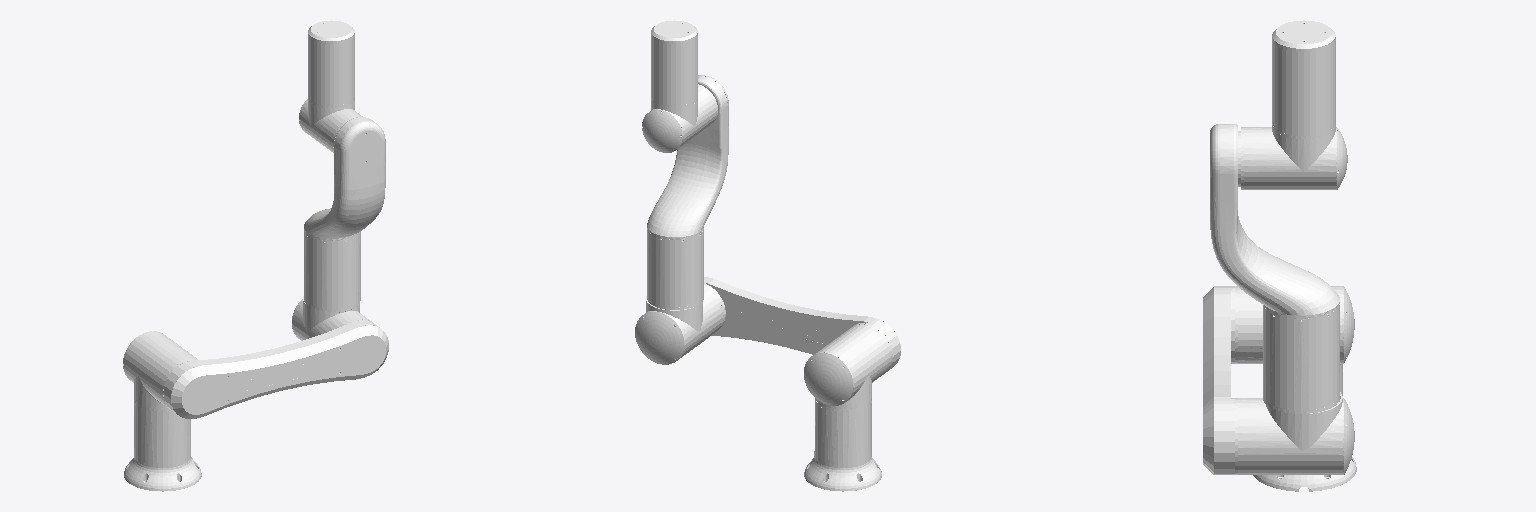
URDF robot description (zhrobot):
<robot
  name="zhrobot">
  <link
    name="base_link">
    <inertial>
      <origin
        xyz="0.00012128 0.00014938 0.099776"
        rpy="0 0 0" />
      <mass
        value="3.8413" />
      <inertia
        ixx="0.012067"
        ixy="4.9E-07"
        ixz="0.00010217"
        iyy="0.011933"
        iyz="2.373E-05"
        izz="0.0062804" />
    </inertial>
    <visual>
      <origin
        xyz="0 0 0"
        rpy="0 0 0" />
      <geometry>
        <mesh
          filename="package://zhrobot/meshes/base_link.STL" />
      </geometry>
      <material
        name="gray">
        <color
          rgba="1 1 1 1" />
      </material>
    </visual>
    <collision>
      <origin
        xyz="0 0 0"
        rpy="0 0 0" />
      <geometry>
        <mesh
          filename="package://zhrobot/meshes/base_link.STL" />
      </geometry>
    </collision>
  </link>
  <link
    name="link2">
    <inertial>
      <origin
        xyz="-0.00016173 -0.002251 0.042306"
        rpy="0 0 0" />
      <mass
        value="3.555" />
      <inertia
        ixx="0.007827"
        ixy="-7.3E-07"
        ixz="2.938E-05"
        iyy="0.0079527"
        iyz="0.00035769"
        izz="0.0051663" />
    </inertial>
    <visual>
      <origin
        xyz="0 0 0"
        rpy="0 0 0" />
      <geometry>
        <mesh
          filename="package://zhrobot/meshes/link2.STL" />
      </geometry>
      <material
        name="gray">
        <color
          rgba="1 1 1 1" />
      </material>
    </visual>
    <collision>
      <origin
        xyz="0 0 0"
        rpy="0 0 0" />
      <geometry>
        <mesh
          filename="package://zhrobot/meshes/link2.STL" />
      </geometry>
    </collision>
  </link>
  <joint
    name="joint1"
    type="revolute">
    <origin
      xyz="0 0 0.2261"
      rpy="1.5708 0 0" />
    <parent
      link="base_link" />
    <child
      link="link2" />
    <axis
      xyz="0 -1 0" />
    <limit
      lower="-3.1416"
      upper="3.1416"
      effort="100"
      velocity="0.5" />
    <dynamics
      damping="0.5"
      friction="0.5" />
  </joint>
  <link
    name="bigarm">
    <inertial>
      <origin
        xyz="0.1875 1.73E-05 0.12277"
        rpy="0 0 0" />
      <mass
        value="0.87042" />
      <inertia
        ixx="0.0010539"
        ixy="1E-07"
        ixz="0"
        iyy="0.016125"
        iyz="2E-07"
        izz="0.016763" />
    </inertial>
    <visual>
      <origin
        xyz="0 0 0"
        rpy="0 0 0" />
      <geometry>
        <mesh
          filename="package://zhrobot/meshes/bigarm.STL" />
      </geometry>
      <material
        name="gray">
        <color
          rgba="1 1 1 1" />
      </material>
    </visual>
    <collision>
      <origin
        xyz="0 0 0"
        rpy="0 0 0" />
      <geometry>
        <mesh
          filename="package://zhrobot/meshes/bigarm.STL" />
      </geometry>
    </collision>
  </link>
  <joint
    name="joint2"
    type="revolute">
    <origin
      xyz="0 0 0"
      rpy="0 0 0" />
    <parent
      link="link2" />
    <child
      link="bigarm" />
    <axis
      xyz="0 0 -1" />
    <limit
      lower="-3.1416"
      upper="3.1416"
      effort="100"
      velocity="0.5" />
    <dynamics
      damping="0.5"
      friction="0.5" />
  </joint>
  <link
    name="link3">
    <inertial>
      <origin
        xyz="0.0001617 0.042309 -0.0022472"
        rpy="0 0 0" />
      <mass
        value="3.5547" />
      <inertia
        ixx="0.0078253"
        ixy="-2.94E-05"
        ixz="7E-07"
        iyy="0.0051655"
        iyz="0.0003572"
        izz="0.0079515" />
    </inertial>
    <visual>
      <origin
        xyz="0 0 0"
        rpy="0 0 0" />
      <geometry>
        <mesh
          filename="package://zhrobot/meshes/link3.STL" />
      </geometry>
      <material
        name="gray">
        <color
          rgba="1 1 1 1" />
      </material>
    </visual>
    <collision>
      <origin
        xyz="0 0 0"
        rpy="0 0 0" />
      <geometry>
        <mesh
          filename="package://zhrobot/meshes/link3.STL" />
      </geometry>
    </collision>
  </link>
  <joint
    name="joint3"
    type="revolute">
    <origin
      xyz="0.375 0 0"
      rpy="1.5708 0 0" />
    <parent
      link="bigarm" />
    <child
      link="link3" />
    <axis
      xyz="0 -1 0" />
    <limit
      lower="-3.1416"
      upper="3.1416"
      effort="100"
      velocity="0.5" />
    <dynamics
      damping="0.5"
      friction="0.5" />
  </joint>
  <link
    name="link4">
    <inertial>
      <origin
        xyz="-0.00027637 0.28564 -0.012939"
        rpy="0 0 0" />
      <mass
        value="4.0261" />
      <inertia
        ixx="0.042331"
        ixy="4.379E-05"
        ixz="-1.44E-05"
        iyy="0.01003"
        iyz="0.011181"
        izz="0.038178" />
    </inertial>
    <visual>
      <origin
        xyz="0 0 0"
        rpy="0 0 0" />
      <geometry>
        <mesh
          filename="package://zhrobot/meshes/link4.STL" />
      </geometry>
      <material
        name="gray">
        <color
          rgba="1 1 1 1" />
      </material>
    </visual>
    <collision>
      <origin
        xyz="0 0 0"
        rpy="0 0 0" />
      <geometry>
        <mesh
          filename="package://zhrobot/meshes/link4.STL" />
      </geometry>
    </collision>
  </link>
  <joint
    name="joint4"
    type="revolute">
    <origin
      xyz="0 0 -0.435"
      rpy="1.5708 0 0" />
    <parent
      link="link3" />
    <child
      link="link4" />
    <axis
      xyz="0 1 0" />
    <limit
      lower="-3.1416"
      upper="3.1416"
      effort="100"
      velocity="0.5" />
    <dynamics
      damping="0.5"
      friction="0.5" />
  </joint>
  <link
    name="link5">
    <inertial>
      <origin
        xyz="0.00034682 -0.042079 0.0021679"
        rpy="0 0 0" />
      <mass
        value="2.205" />
      <inertia
        ixx="0.0038576"
        ixy="3.25E-05"
        ixz="6.5E-07"
        iyy="0.0021613"
        iyz="0.0002071"
        izz="0.0038912" />
    </inertial>
    <visual>
      <origin
        xyz="0 0 0"
        rpy="0 0 0" />
      <geometry>
        <mesh
          filename="package://zhrobot/meshes/link5.STL" />
      </geometry>
      <material
        name="gray">
        <color
          rgba="1 1 1 1" />
      </material>
    </visual>
    <collision>
      <origin
        xyz="0 0 0"
        rpy="0 0 0" />
      <geometry>
        <mesh
          filename="package://zhrobot/meshes/link5.STL" />
      </geometry>
    </collision>
  </link>
  <joint
    name="joint5"
    type="revolute">
    <origin
      xyz="0 0 0"
      rpy="1.5708 0 0" />
    <parent
      link="link4" />
    <child
      link="link5" />
    <axis
      xyz="0 1 0" />
    <limit
      lower="-3.1416"
      upper="3.1416"
      effort="100"
      velocity="0.5" />
    <dynamics
      damping="0.5"
      friction="0.5" />
  </joint>
  <link
    name="link6">
    <inertial>
      <origin
        xyz="0.00030399 0.00036053 -0.10004"
        rpy="0 0 0" />
      <mass
        value="2.1217" />
      <inertia
        ixx="0.0037689"
        ixy="2.09E-06"
        ixz="3.728E-05"
        iyy="0.0037195"
        iyz="3.323E-05"
        izz="0.0019077" />
    </inertial>
    <visual>
      <origin
        xyz="0 0 0"
        rpy="0 0 0" />
      <geometry>
        <mesh
          filename="package://zhrobot/meshes/link6.STL" />
      </geometry>
      <material
        name="gray">
        <color
          rgba="1 1 1 1" />
      </material>
    </visual>
    <collision>
      <origin
        xyz="0 0 0"
        rpy="0 0 0" />
      <geometry>
        <mesh
          filename="package://zhrobot/meshes/link6.STL" />
      </geometry>
    </collision>
  </link>
  <joint
    name="joint6"
    type="revolute">
    <origin
      xyz="0 0 0.1878"
      rpy="0 0 0" />
    <parent
      link="link5" />
    <child
      link="link6" />
    <axis
      xyz="0 0 -1" />
    <limit
      lower="-3.1416"
      upper="3.1416"
      effort="100"
      velocity="0.5" />
    <dynamics
      damping="0.5"
      friction="0.5" />
  </joint>
</robot>

--- What the picture shows (computed from the rendered views, not written in the file) ---
Views: 3 orthographic renders of the robot side by side, from view 1: azimuth 30°, elevation 25°; view 2: azimuth 150°, elevation 25°; view 3: azimuth 270°, elevation 25°.
Model zhrobot with 7 links and 6 joints (6 revolute), rooted at base_link, posed all joints at 0.
Links seen in each view (by area): view 1: bigarm, link4, base_link, link6, link2, link5, link3; view 2: link4, bigarm, link2, base_link, link3, link6, link5; view 3: link4, link3, link6, link5, bigarm, link2, base_link.
Boxes of the visible links, <box> form: bigarm: <box>163,320,388,418</box>; link4: <box>304,117,385,312</box>; base_link: <box>124,400,201,491</box>; link6: <box>308,20,354,107</box>; link2: <box>123,331,197,408</box>; link5: <box>299,99,362,152</box>; link3: <box>292,296,371,340</box>; link4: <box>647,75,728,309</box>; bigarm: <box>704,277,900,371</box>; link2: <box>804,323,893,408</box>; base_link: <box>804,399,881,491</box>; link3: <box>635,284,724,364</box>; link6: <box>651,20,697,107</box>; link5: <box>642,84,717,152</box>; link4: <box>1210,124,1339,413</box>; link3: <box>1235,392,1354,474</box>; link6: <box>1272,20,1335,139</box>; link5: <box>1238,127,1347,189</box>; bigarm: <box>1203,286,1234,474</box>; link2: <box>1235,286,1354,368</box>; base_link: <box>1253,366,1356,491</box>.
Bounding box of the posed robot: 0.5045 × 0.218 × 0.8589 m (x, y, z).
Meshes: 7 distinct files referenced, 7 mesh visuals loaded (7 binary STL).